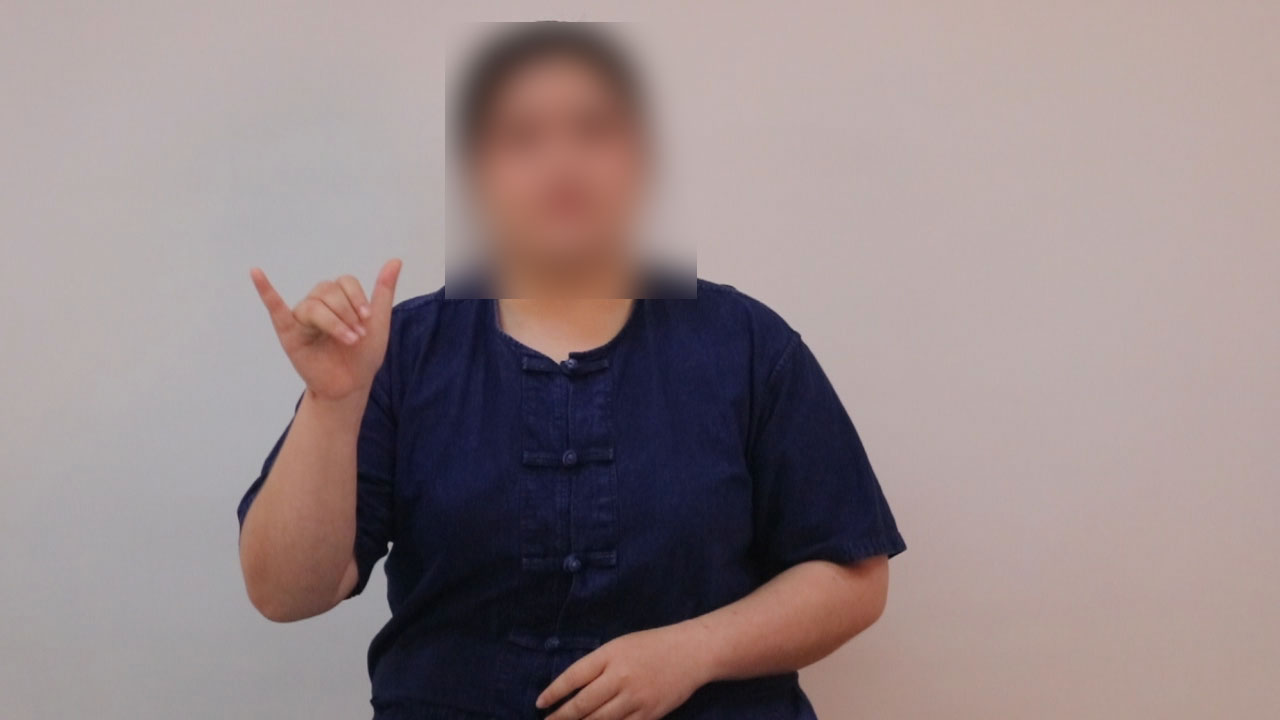yor: (241, 253, 418, 407)
